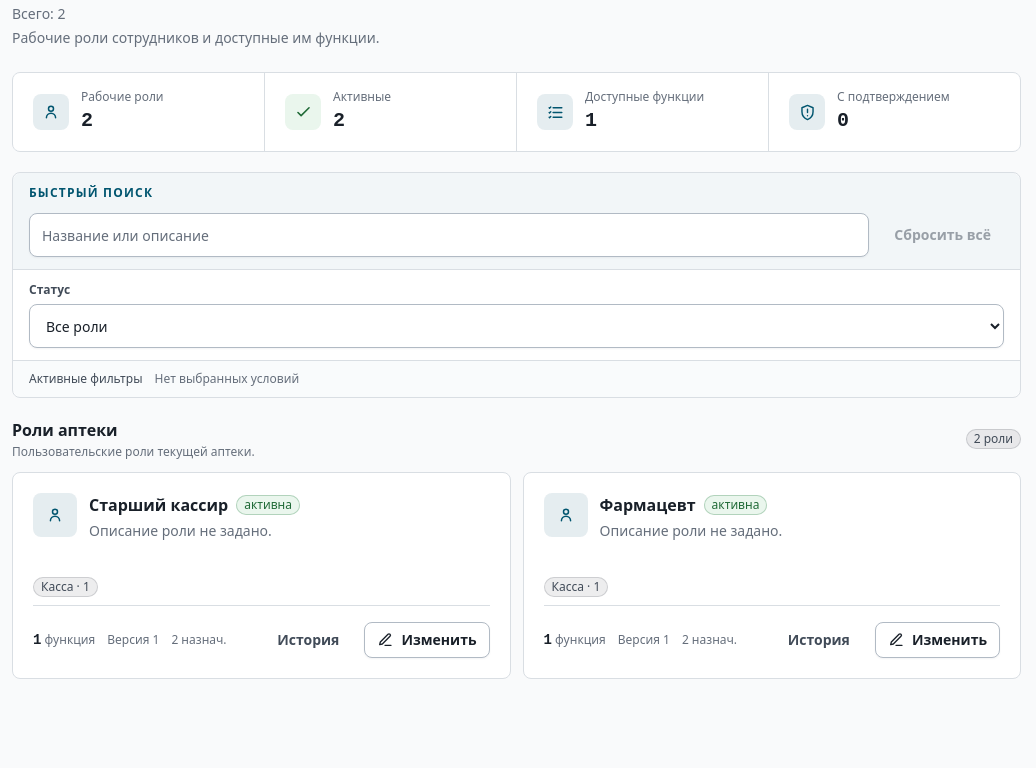
RolesPage › filters the visible tenant roles without exposing protected roles
The width and height of the screenshot is (1036, 768).
Expected: the heading "Старший кассир" is shown, [89, 493, 228, 517]
In the search field named "Поиск": (449, 235) [29, 213, 869, 257], type "фарма"
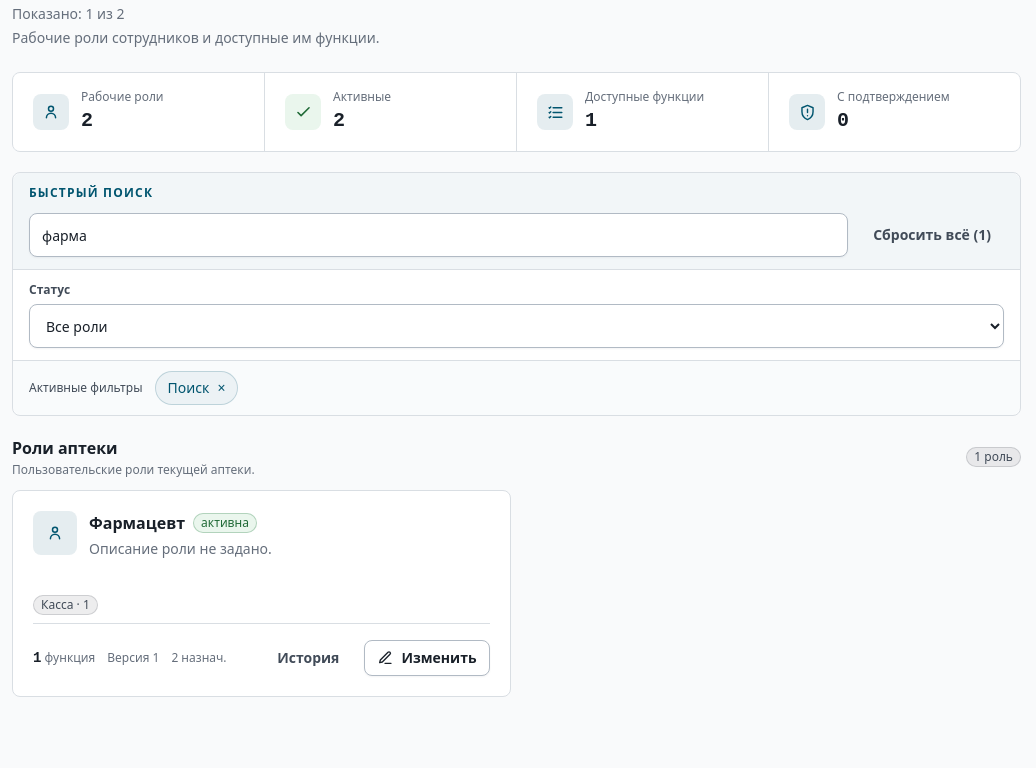
Expected: the heading "Фармацевт" is shown, [89, 511, 185, 535]
Result: the heading "Старший кассир" is gone
